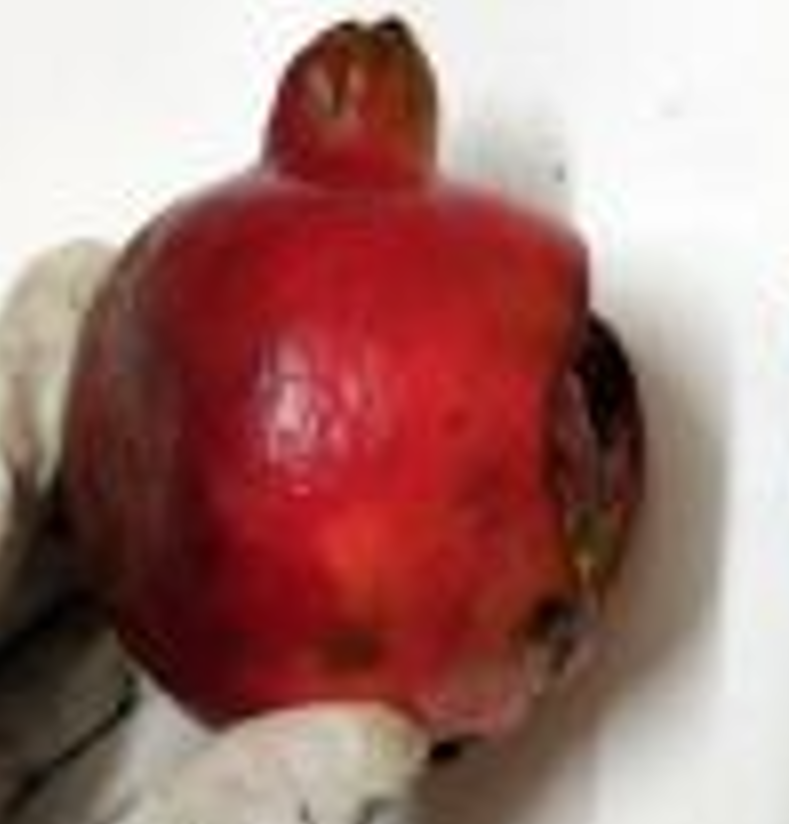pomegranate_C: (63, 12, 650, 769)
